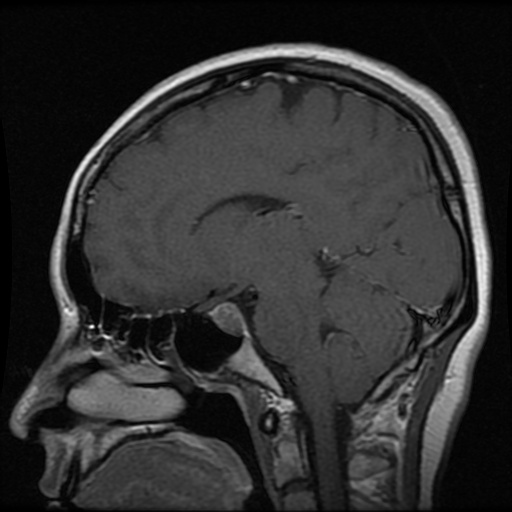pituitary: (211, 301, 246, 334)
